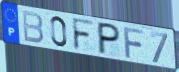0: (49, 16, 68, 48)
7: (149, 30, 169, 64)
B: (21, 10, 45, 46)
F: (71, 17, 96, 53), (123, 26, 146, 60)
P: (97, 21, 122, 56)
